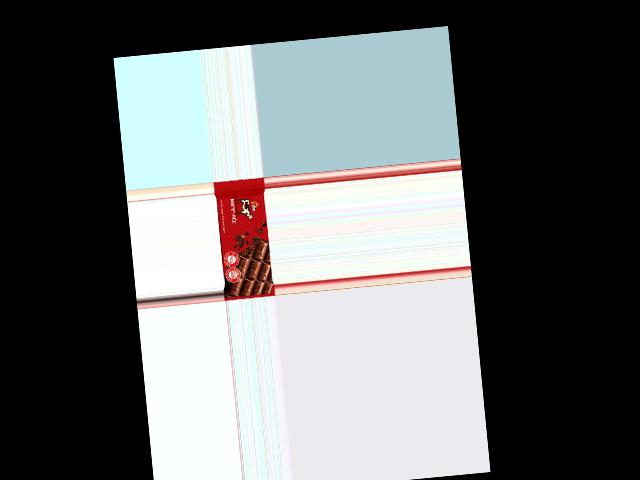chocolate: (213, 176, 274, 299)
